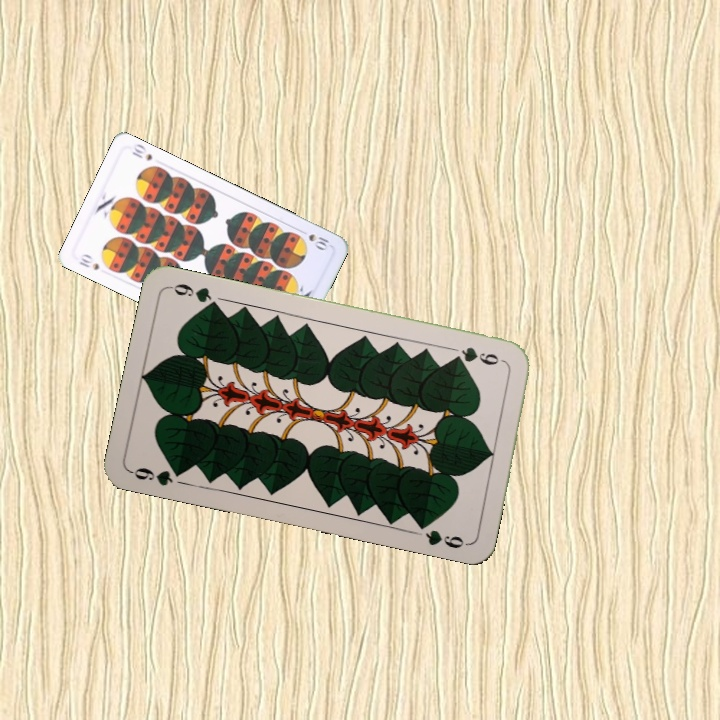G9: (127, 463, 188, 489), (448, 343, 508, 368)
S10: (295, 225, 334, 253), (75, 250, 102, 273)
